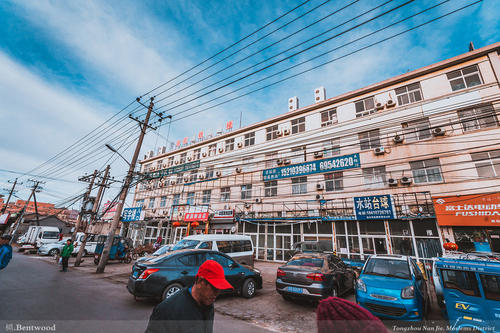utility_pole: (124, 90, 169, 140)
